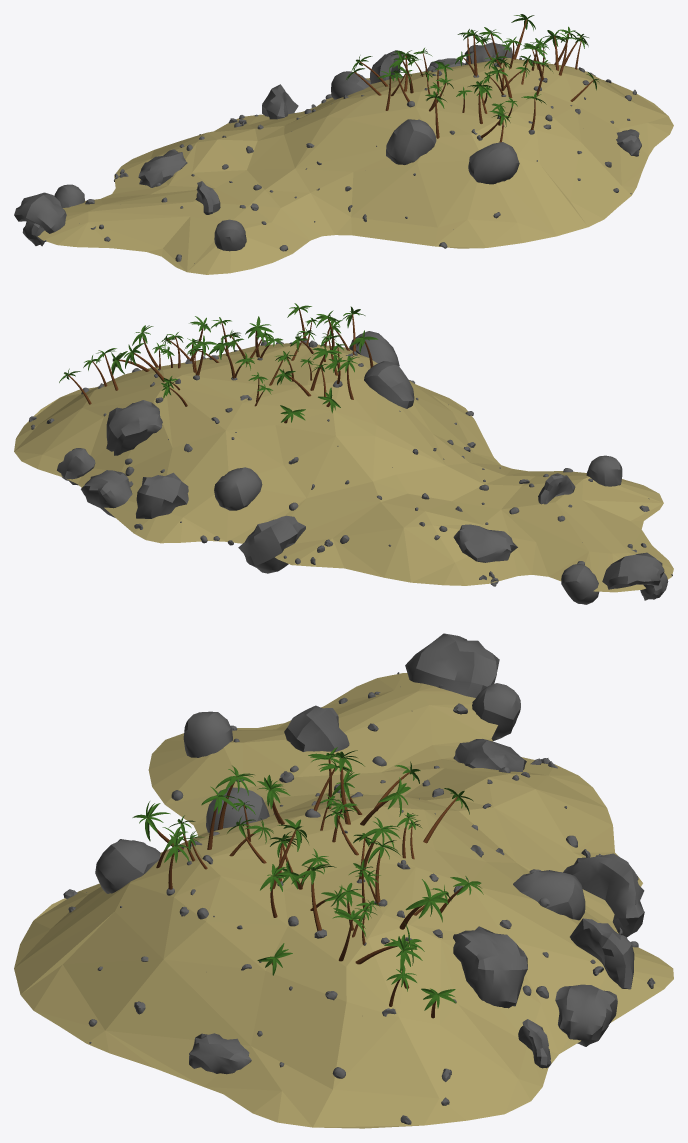
Rendered from Island-1.fbx.
3 renders of one model, top to bottom at view 1: azimuth 30°, elevation 25°; view 2: azimuth 150°, elevation 25°; view 3: azimuth 270°, elevation 25°, orthographic. The views are drawn at different scales.
Parts seen in each view (by area): view 1: Island-1, Folige-1; view 2: Island-1, Folige-1; view 3: Island-1, Folige-1.
Part boxes in pixels (box(x1,y1,x2,y2)): Island-1: box(37, 58, 673, 274); Folige-1: box(14, 14, 641, 263); Island-1: box(14, 343, 673, 592); Folige-1: box(29, 303, 672, 604); Island-1: box(14, 673, 673, 1128); Folige-1: box(63, 633, 655, 1124).
Bounding box in the file's own units: 11747 × 2671 × 7083.
